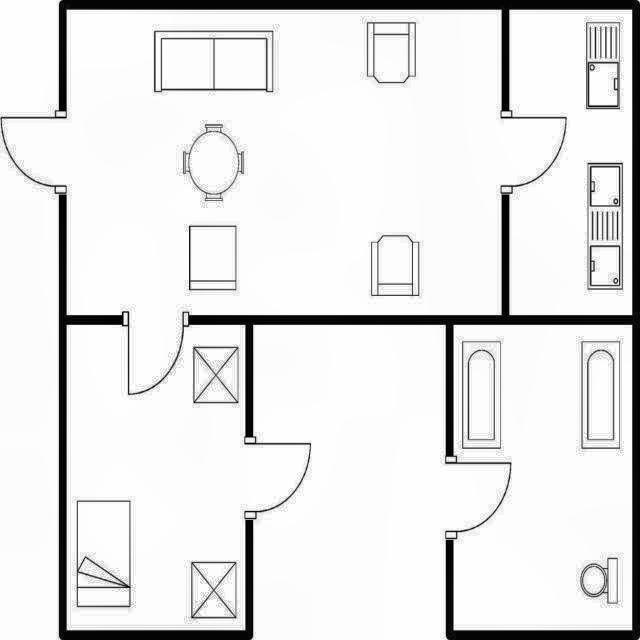room: (67, 10, 502, 315), (66, 324, 246, 630), (453, 325, 632, 631), (509, 9, 632, 315)
